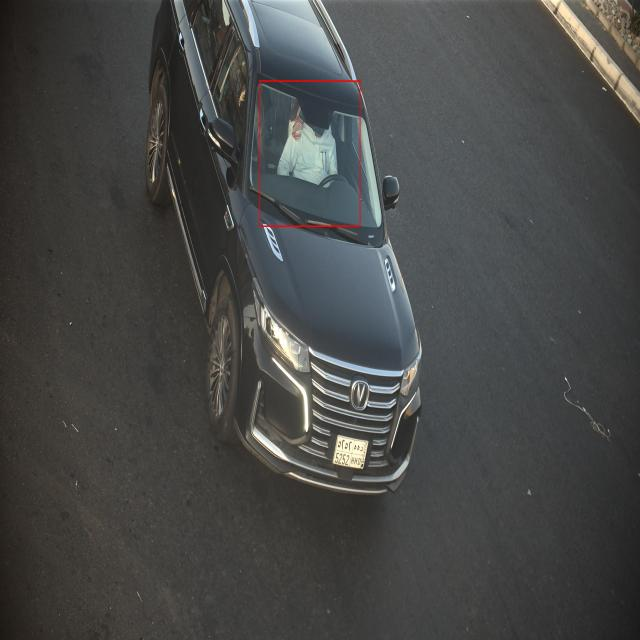windshield: (242, 64, 388, 256)
